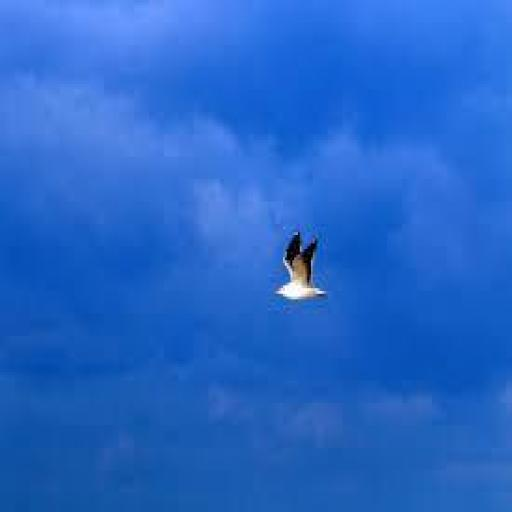birds: (273, 233, 327, 301)
